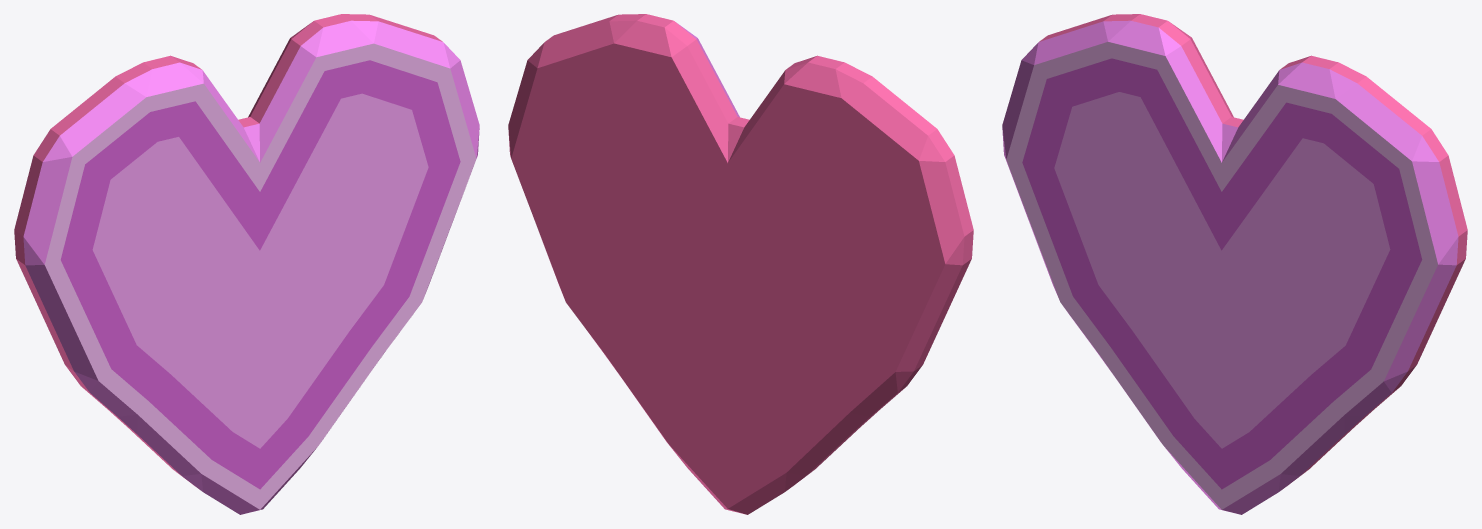
File: heart.fbx
3 views of the same model, side by side, from view 1: azimuth 30°, elevation 25°; view 2: azimuth 150°, elevation 25°; view 3: azimuth 330°, elevation 25° (orthographic).
Parts seen in each view (by area): view 1: Cube; view 2: Cube; view 3: Cube.
Boxes of the visible parts, x1,y1,x2,y2 form: Cube: [14, 14, 479, 514]; Cube: [508, 14, 973, 514]; Cube: [1002, 14, 1467, 514].
Bounding box in the file's own units: 100 × 97.95 × 10.
